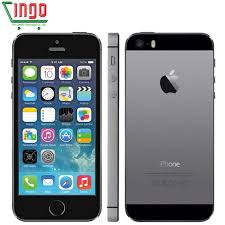iphone4: (122, 31, 216, 223)
iphone5: (8, 29, 102, 221), (122, 31, 216, 223)
